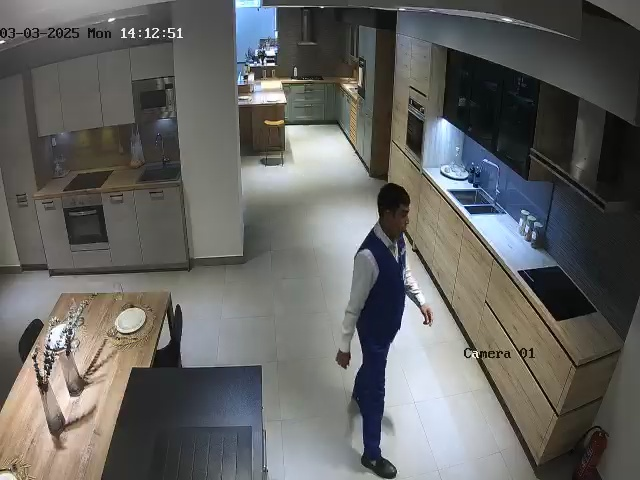employee: (335, 182, 434, 479)
